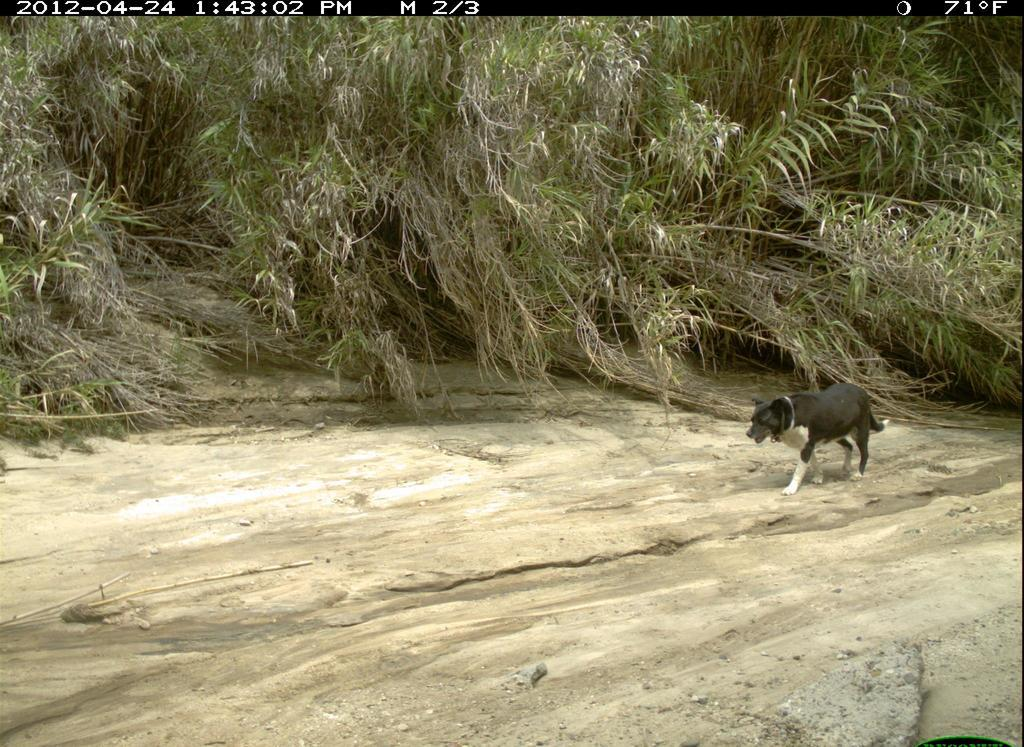dog: (742, 377, 891, 497)
